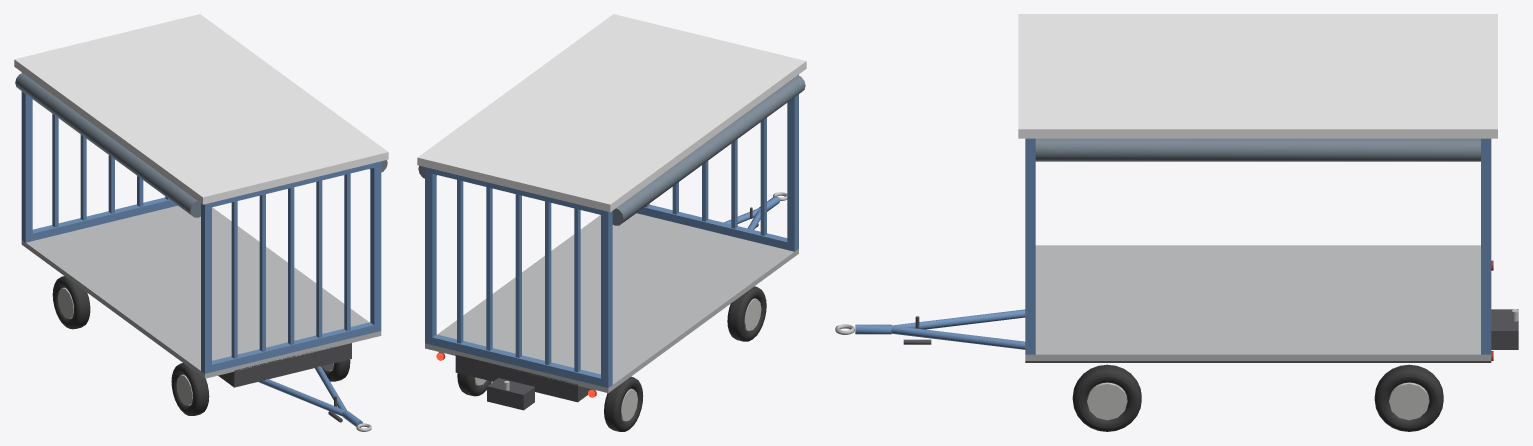
The model's file is BaggageCart.glb.
The picture shows the model from 3 angles, left to right: view 1: azimuth 30°, elevation 25°; view 2: azimuth 150°, elevation 25°; view 3: azimuth 270°, elevation 25°; orthographic projection. The views are drawn at different scales.
Parts seen in each view (by area): view 1: Body, Wheel_RR, Wheel_FR, Drawbar, Wheel_FL; view 2: Body, Wheel_FR, Wheel_RR, Drawbar, Wheel_RL; view 3: Body, Wheel_FL, Wheel_RL, Drawbar.
Part boxes in pixels (left/top/right/bottom): Body: left=14, top=14, right=388, bottom=387; Wheel_RR: left=52, top=276, right=90, bottom=329; Wheel_FR: left=171, top=363, right=209, bottom=415; Drawbar: left=258, top=366, right=371, bottom=431; Wheel_FL: left=321, top=359, right=350, bottom=381; Body: left=417, top=14, right=806, bottom=410; Wheel_FR: left=727, top=286, right=766, bottom=341; Wheel_RR: left=604, top=376, right=643, bottom=431; Drawbar: left=724, top=192, right=787, bottom=229; Wheel_RL: left=457, top=373, right=491, bottom=396; Body: left=1018, top=14, right=1518, bottom=362; Wheel_FL: left=1072, top=364, right=1141, bottom=431; Wheel_RL: left=1374, top=364, right=1443, bottom=431; Drawbar: left=835, top=309, right=1025, bottom=349.
Size of what is drawn, in the model's own units: 1.68 by 2.01 by 3.96.
